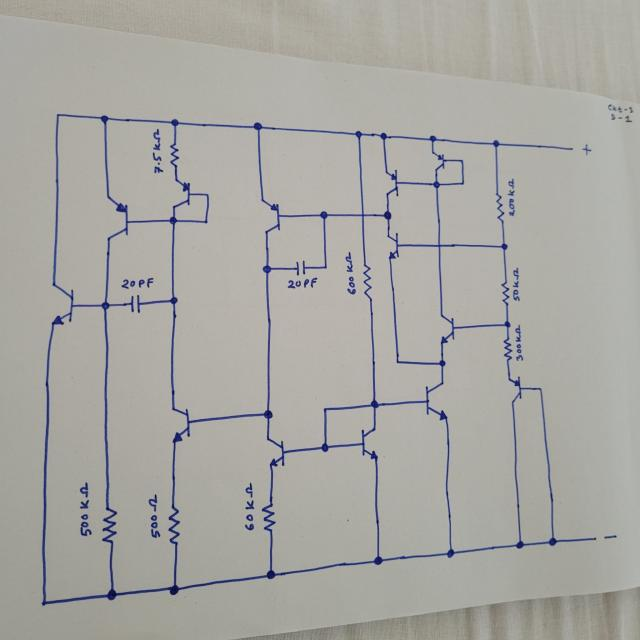capacitor: (128, 292, 142, 314), (293, 259, 307, 277)
crossover: (434, 240, 444, 250), (358, 210, 367, 219)
junction: (105, 587, 118, 601), (370, 554, 384, 567), (318, 440, 331, 453), (264, 568, 277, 580), (368, 398, 381, 410), (252, 120, 264, 132), (262, 408, 274, 420), (444, 547, 456, 559), (546, 535, 558, 547), (38, 596, 50, 608), (168, 584, 180, 596), (168, 294, 179, 306), (514, 539, 526, 550), (377, 130, 388, 142), (99, 113, 110, 124), (498, 241, 509, 252), (354, 128, 364, 140), (261, 264, 272, 274), (490, 138, 500, 149), (170, 117, 180, 128), (438, 358, 448, 369), (382, 210, 392, 220), (168, 216, 178, 226), (431, 179, 441, 189), (318, 210, 328, 220), (100, 300, 110, 310), (501, 320, 511, 329), (428, 134, 438, 143), (320, 404, 329, 414), (393, 357, 401, 366), (54, 110, 62, 118), (536, 385, 544, 393), (203, 191, 211, 198), (202, 218, 210, 225), (459, 179, 466, 187), (458, 157, 465, 164), (322, 264, 329, 270)
resistor: (99, 506, 119, 546), (166, 504, 182, 547), (259, 500, 277, 533), (360, 262, 372, 298), (167, 141, 181, 170), (493, 190, 505, 223), (499, 278, 511, 306), (501, 334, 513, 362)
terminal: (592, 536, 598, 541), (570, 146, 574, 152)
text: (77, 480, 91, 538), (150, 128, 164, 176), (242, 482, 255, 533), (146, 493, 160, 540), (344, 251, 356, 296), (118, 276, 154, 290), (285, 276, 318, 290), (506, 177, 517, 216), (513, 326, 524, 364), (511, 266, 521, 302), (580, 144, 593, 156), (603, 532, 618, 542)
transistor: (46, 281, 76, 328), (105, 195, 132, 243), (423, 381, 449, 421), (169, 405, 194, 446), (260, 197, 284, 237), (358, 424, 380, 464), (265, 436, 288, 472), (436, 312, 459, 347), (170, 176, 192, 210), (382, 167, 402, 201), (383, 230, 402, 264), (505, 372, 524, 405), (431, 150, 448, 174)
